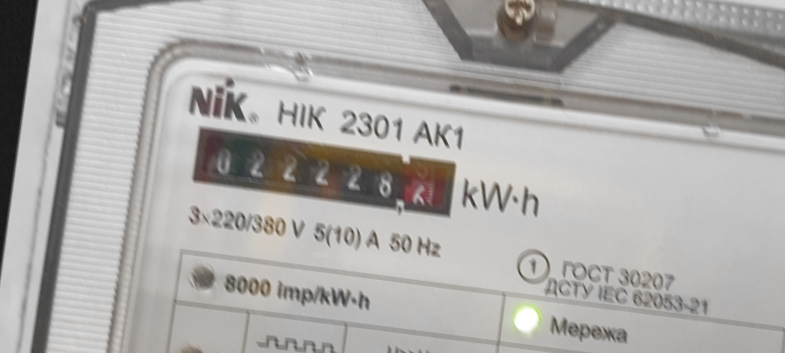0: (213, 145, 232, 176)
2: (246, 148, 268, 179), (344, 162, 365, 193), (311, 157, 332, 186), (279, 153, 299, 183)
5: (412, 159, 431, 181)
6: (409, 182, 428, 205)
8: (375, 169, 394, 199)
screen: (182, 115, 467, 227)
